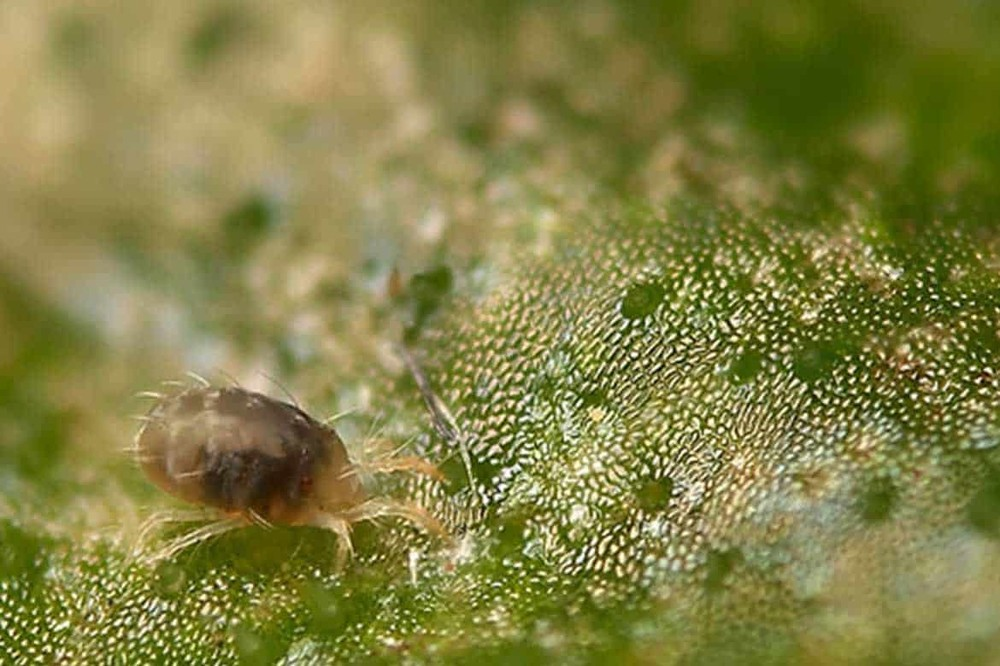Aracnido Rojo: (115, 350, 467, 594)
